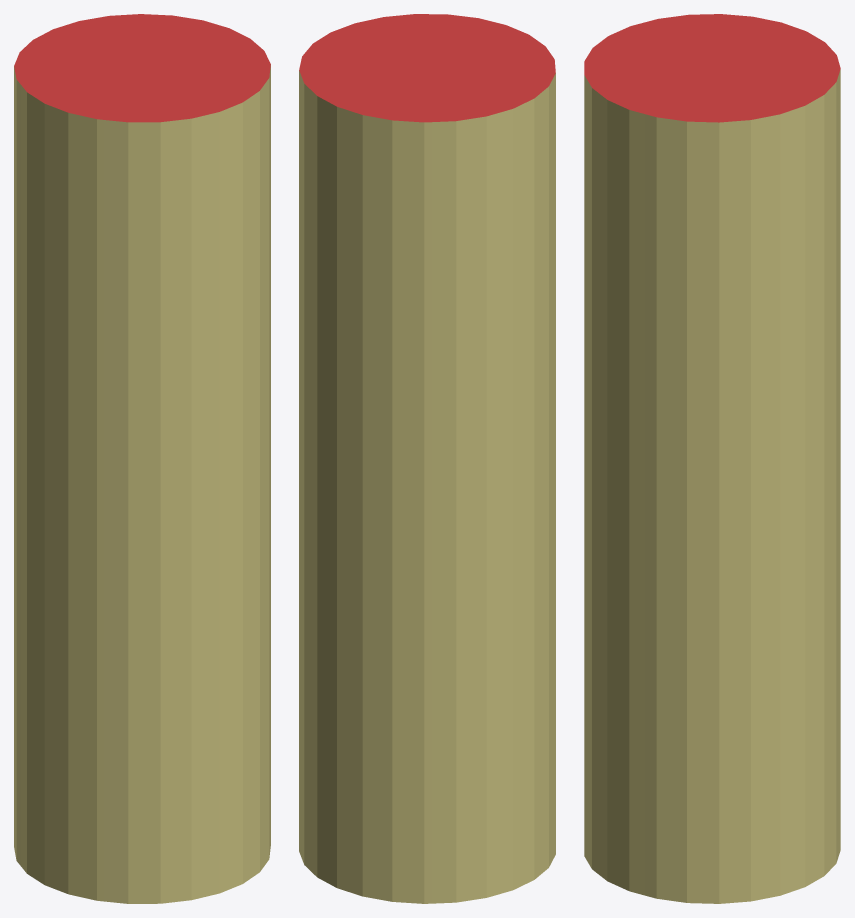
3 views of the same model, side by side, from view 1: azimuth 30°, elevation 25°; view 2: azimuth 150°, elevation 25°; view 3: azimuth 270°, elevation 25° (orthographic).
Bounding box in the file's own units: 2.87 × 2.86 × 9.63.
